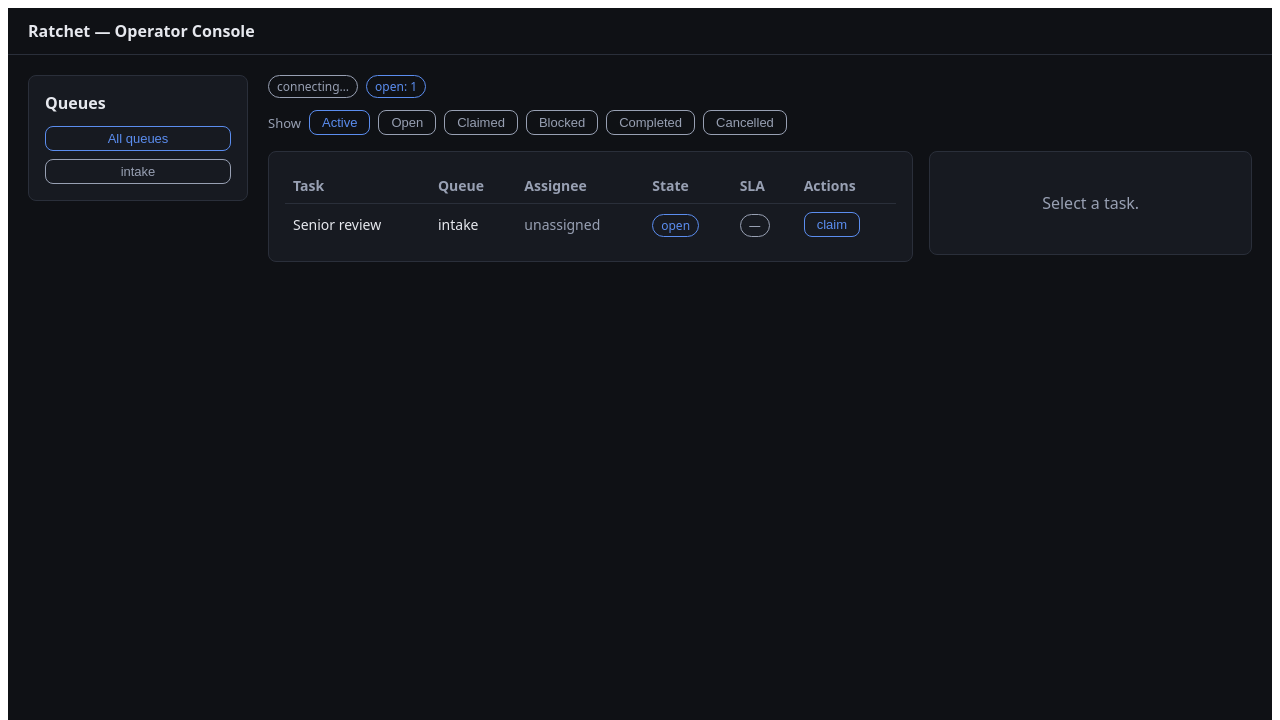
Test case: the task detail explains why the task exists
The image size is (1280, 720).
Click the text "Senior review".
click(358, 224)  # box [285,204,430,245]
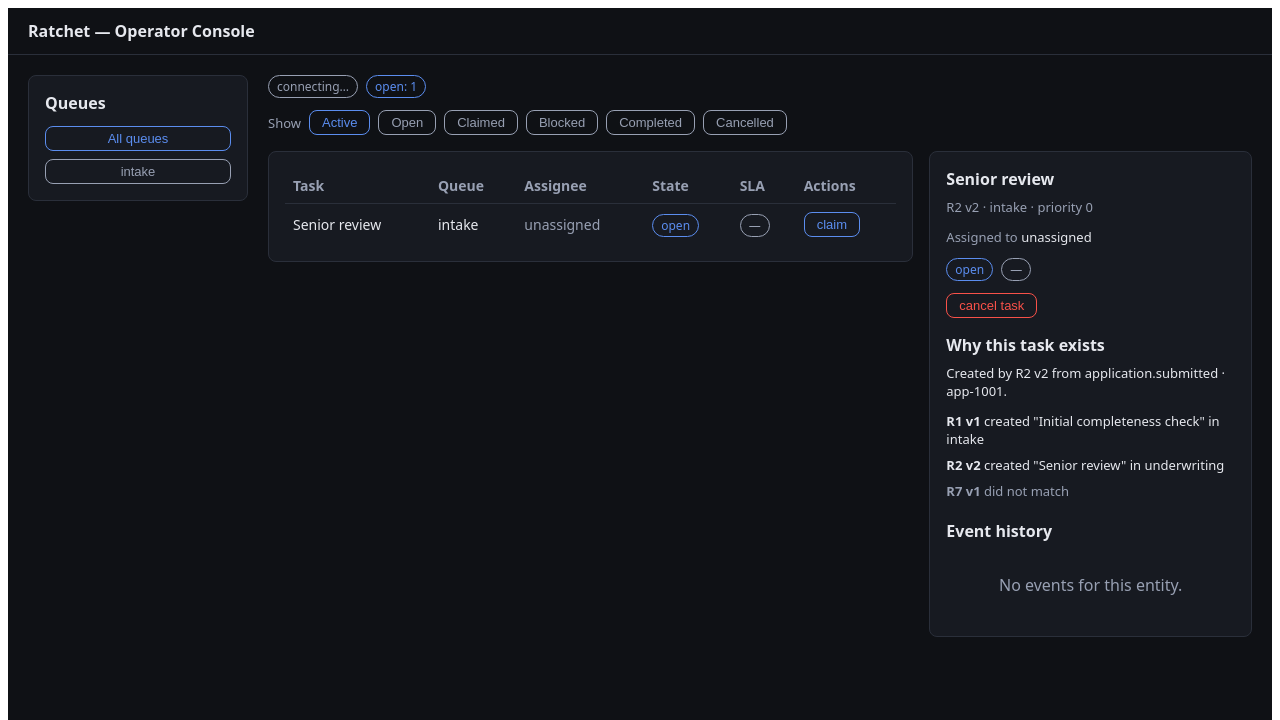
Result: the text "Created by R2 v2 from application.submitted · app-1001." is shown at [946,364,1235,400]
Result: the list item "created \"Senior review\" in underwriting" is shown at [984,456,1224,474]
Result: the list item "did not match" is shown at [984,482,1069,500]
